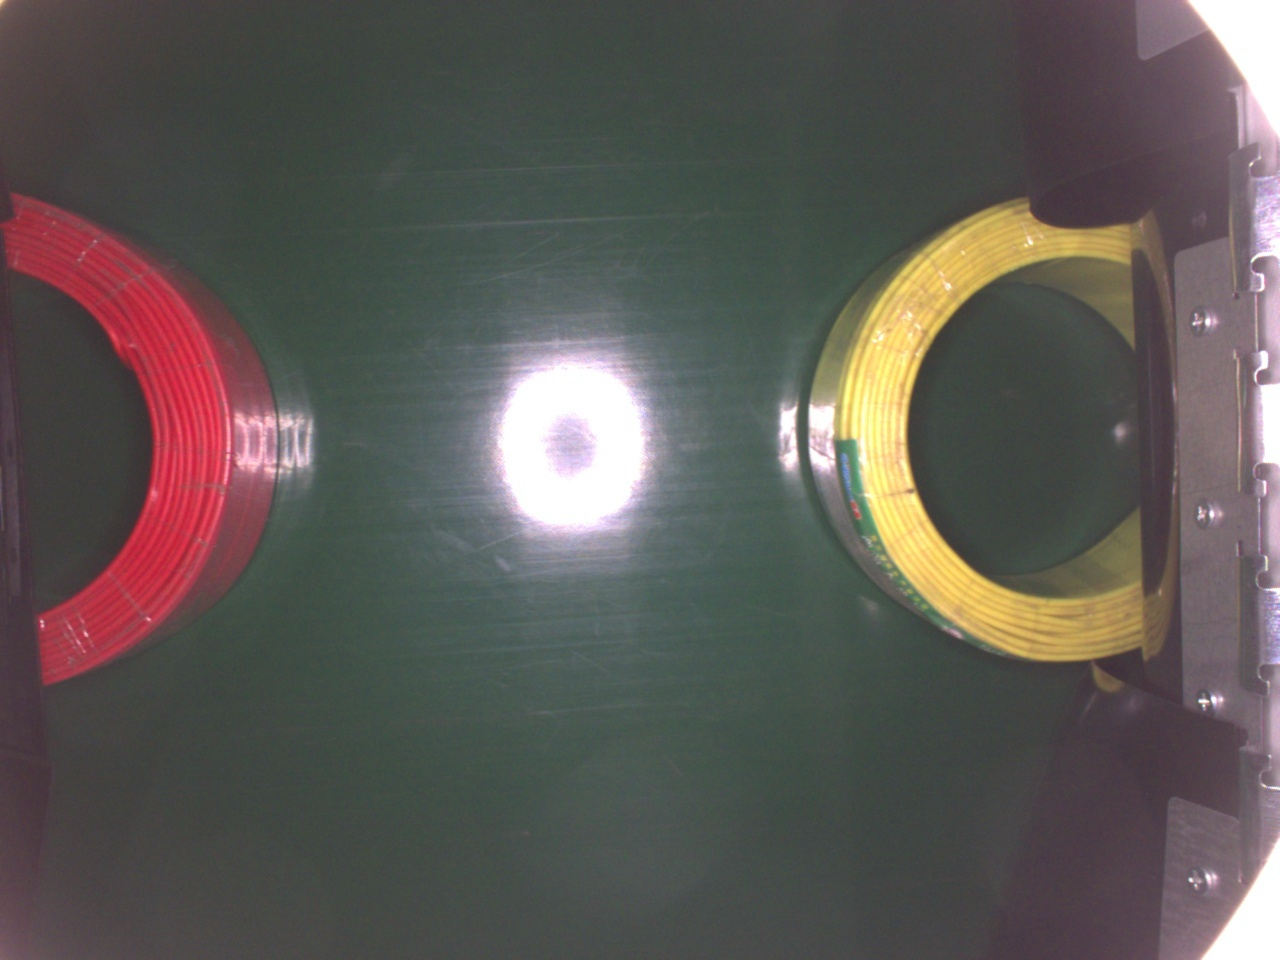red: (0, 183, 281, 689)
yellow: (799, 197, 1143, 659)
